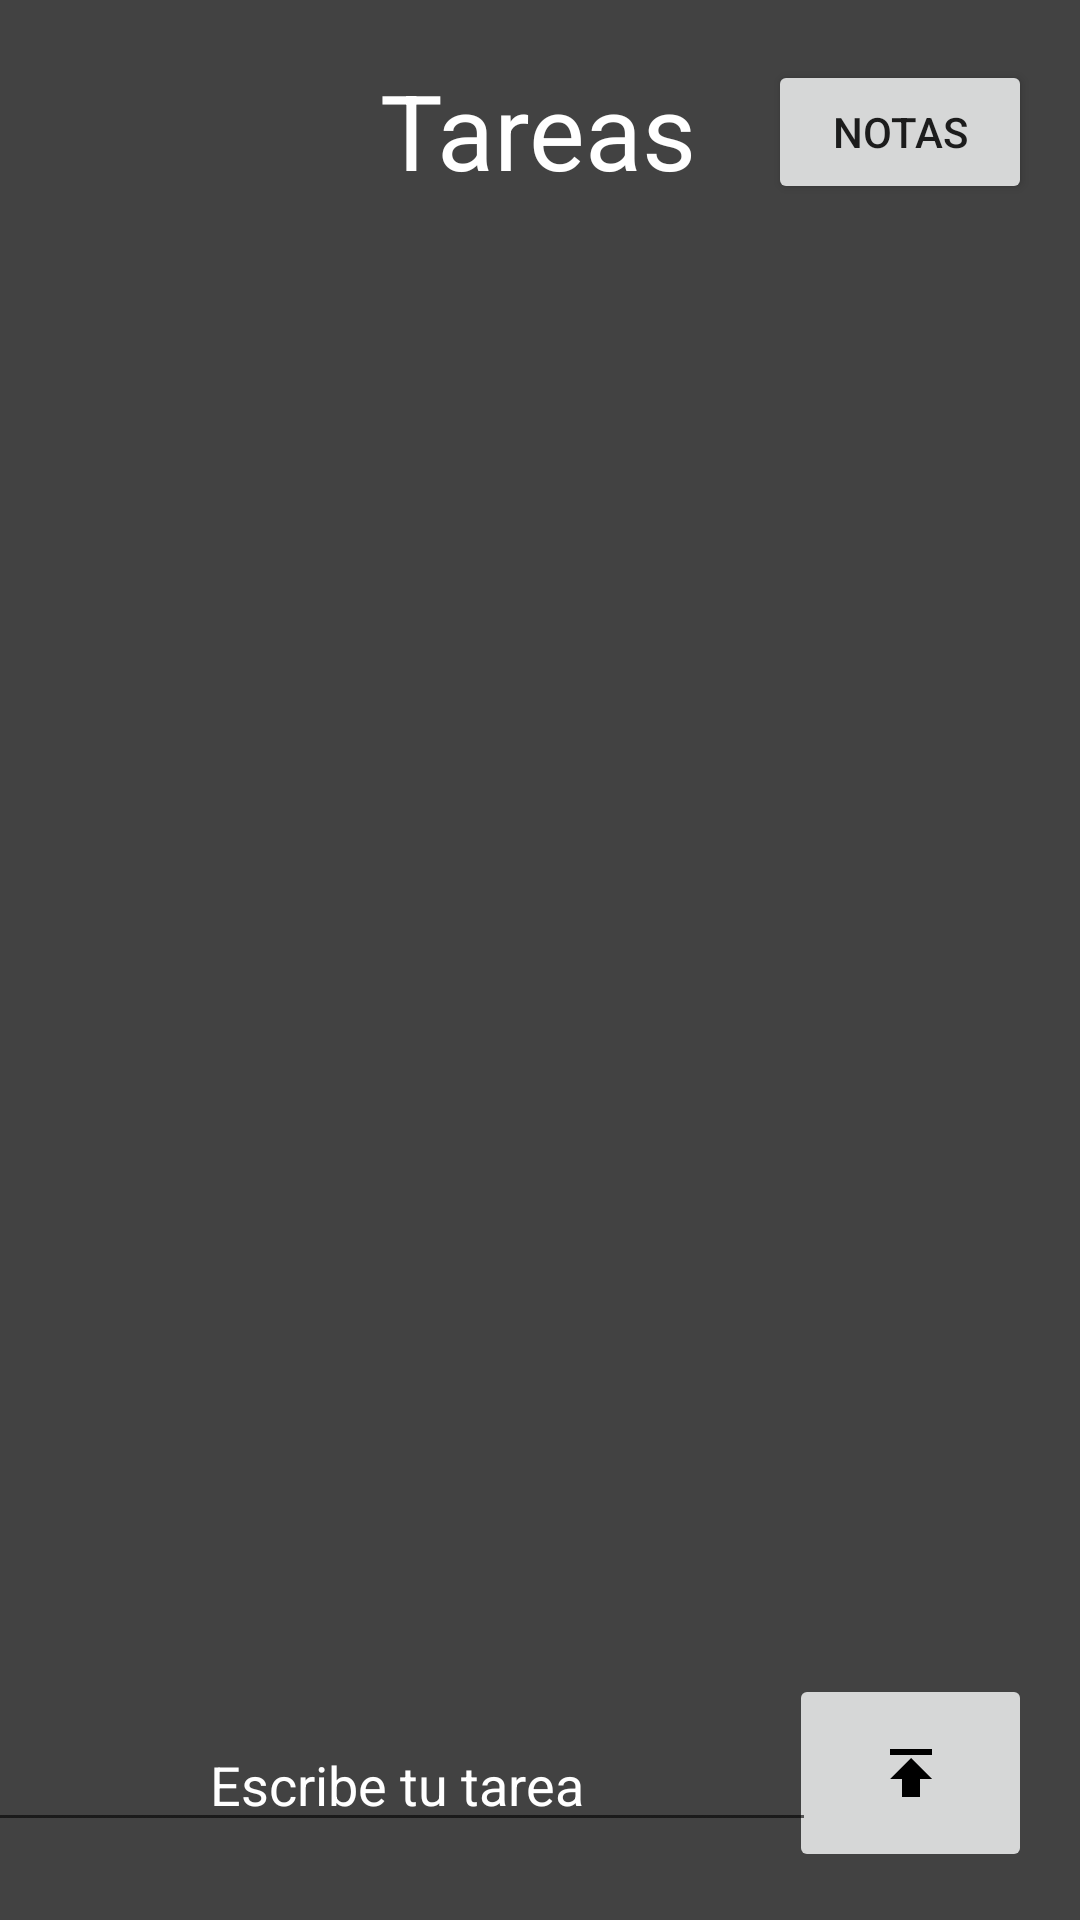

Named icons in this screenshot (1080x1920) and their centers, [x,y]:
publish: [904,1773]
